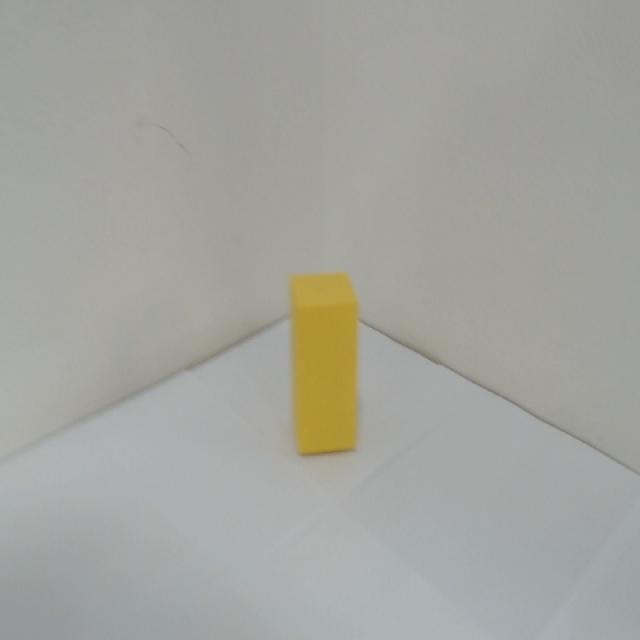cube: (279, 262, 367, 470)
